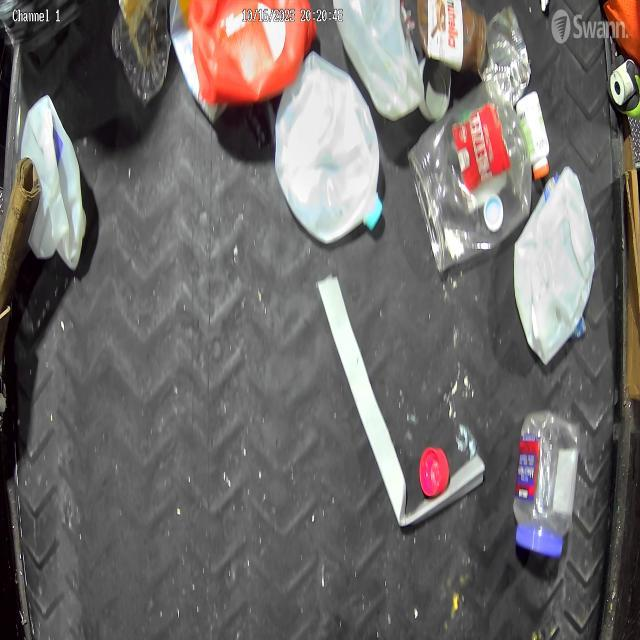can: (479, 4, 532, 107), (418, 54, 451, 124)
milk_jug: (274, 51, 384, 244), (513, 166, 596, 366), (19, 94, 88, 270), (332, 0, 425, 122)
non_white_jug: (187, 0, 317, 105)
